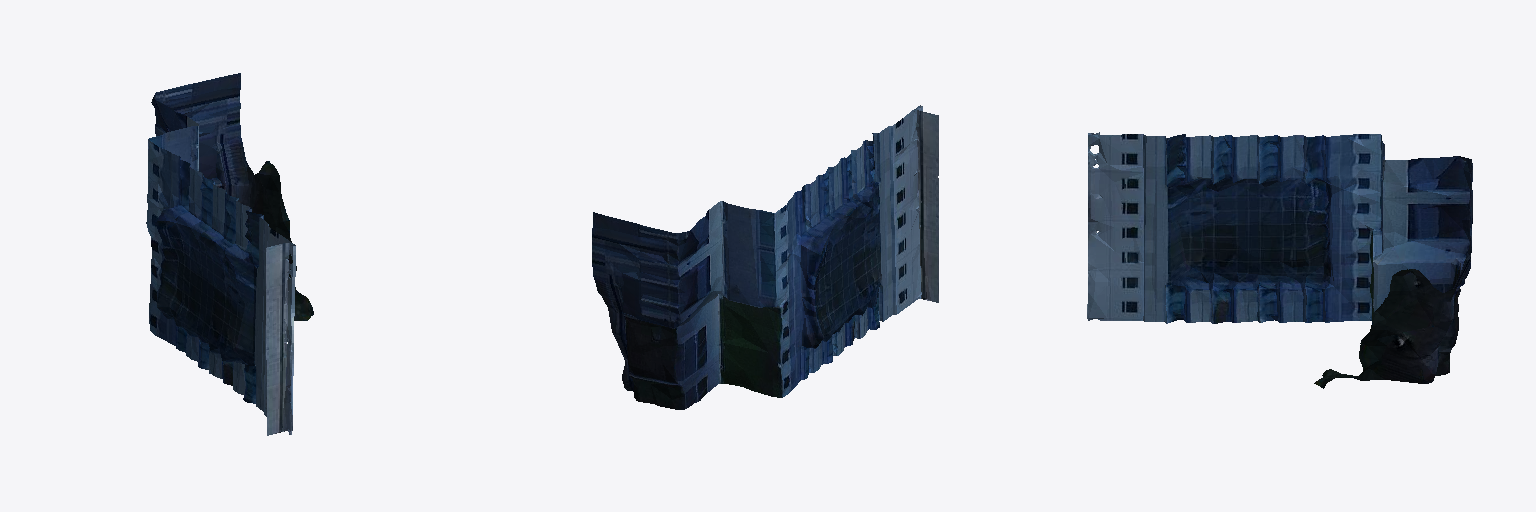
3 renders of one model, left to right at view 1: azimuth 30°, elevation 25°; view 2: azimuth 150°, elevation 25°; view 3: azimuth 270°, elevation 25°, orthographic.
Parts seen in each view (by area): view 1: obj_0; view 2: obj_0; view 3: obj_0.
Boxes of the visible parts, x1=… form: obj_0: x1=146, y1=73, x2=313, y2=435; obj_0: x1=592, y1=105, x2=938, y2=409; obj_0: x1=1087, y1=132, x2=1472, y2=388.
Bounding box in the file's own units: 20.08 × 22.53 × 41.94.
1 materials, 1 textured.